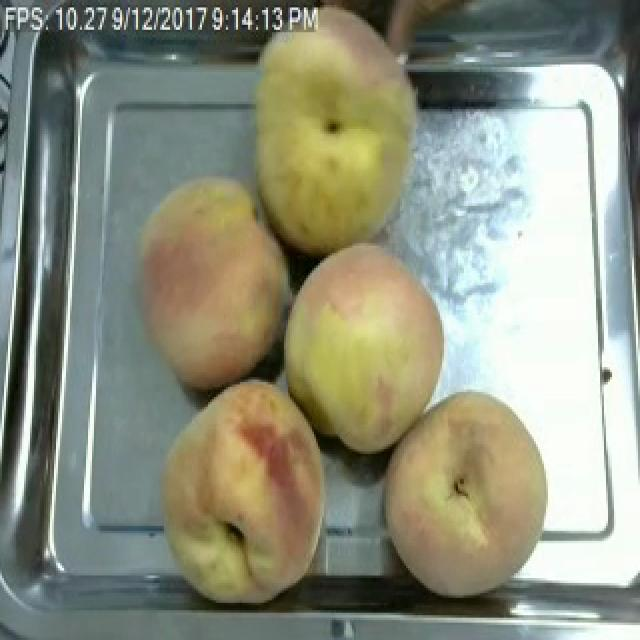Fruit: (236, 0, 430, 263), (150, 370, 342, 612), (370, 384, 558, 608), (274, 236, 454, 464), (124, 169, 300, 397)
